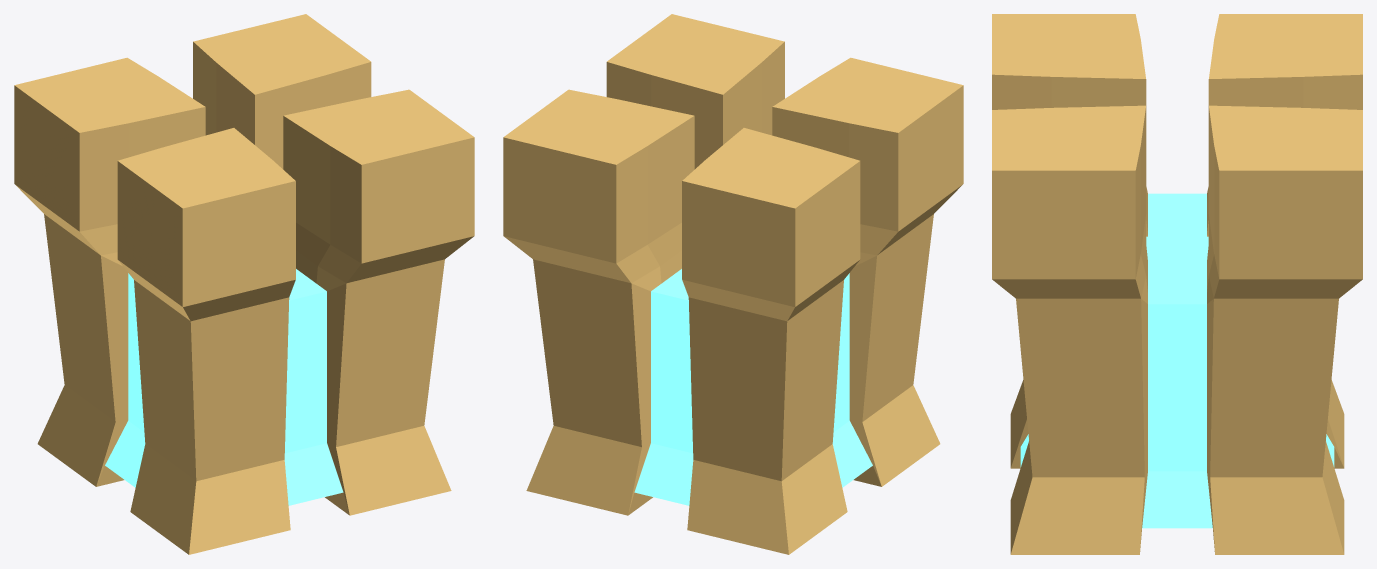
The model's file is cube_m_ Azteca.fbx.
The picture shows the model from 3 angles, left to right: view 1: azimuth 30°, elevation 25°; view 2: azimuth 150°, elevation 25°; view 3: azimuth 270°, elevation 25°; orthographic projection. The views are drawn at different scales.
Visible parts, largest first — view 1: Cube; view 2: Cube; view 3: Cube.
Boxes of the visible parts, <box> form: Cube: <box>14,14,474,554</box>; Cube: <box>503,14,963,554</box>; Cube: <box>992,14,1362,554</box>.
Size of the model in its own units: 267 by 311 by 267.
